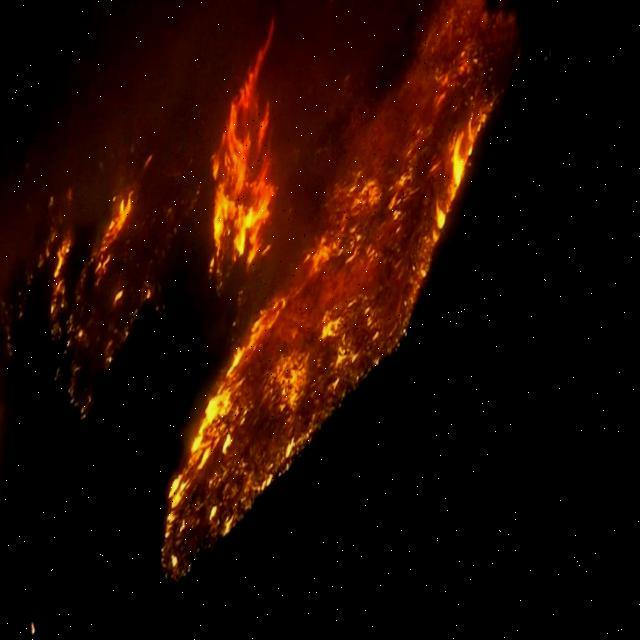Fire: (165, 4, 520, 590), (43, 188, 174, 399)
